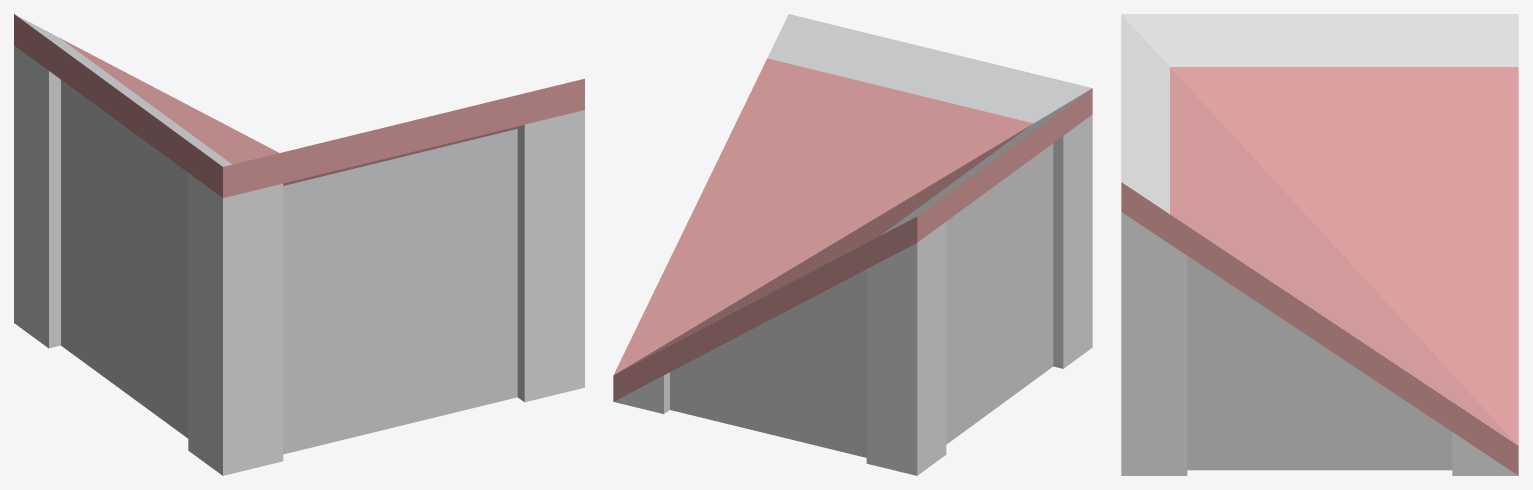
Rendered from Roof_Inner_Corner_Red_01.glb.
The picture shows the model from 3 angles, left to right: view 1: azimuth 30°, elevation 25°; view 2: azimuth 150°, elevation 25°; view 3: azimuth 270°, elevation 25°; orthographic projection. The views are drawn at different scales.
Parts seen in each view (by area): view 1: Roof_Inner_Corner_Red_01; view 2: Roof_Inner_Corner_Red_01; view 3: Roof_Inner_Corner_Red_01.
Boxes of the visible parts, x1,y1,x2,y2 form: Roof_Inner_Corner_Red_01: (14, 14, 584, 475); Roof_Inner_Corner_Red_01: (613, 14, 1092, 475); Roof_Inner_Corner_Red_01: (1121, 14, 1518, 475).
Bounding box in the file's own units: 3 × 2.45 × 3.
